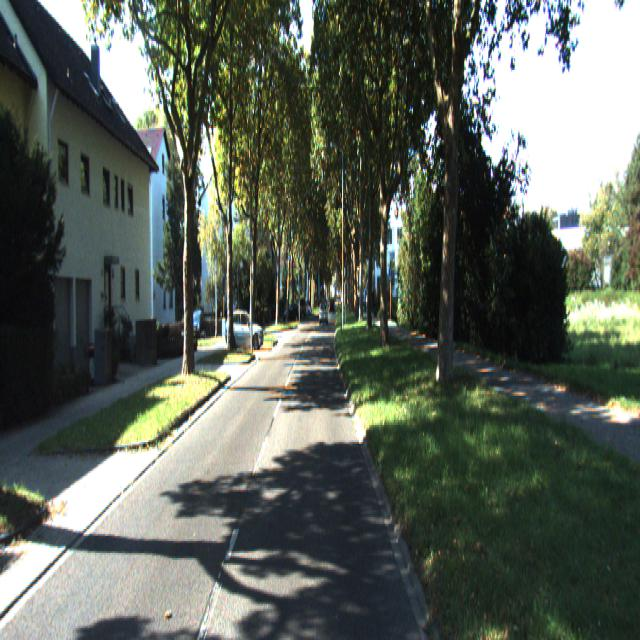Car: (224, 312, 265, 353)
